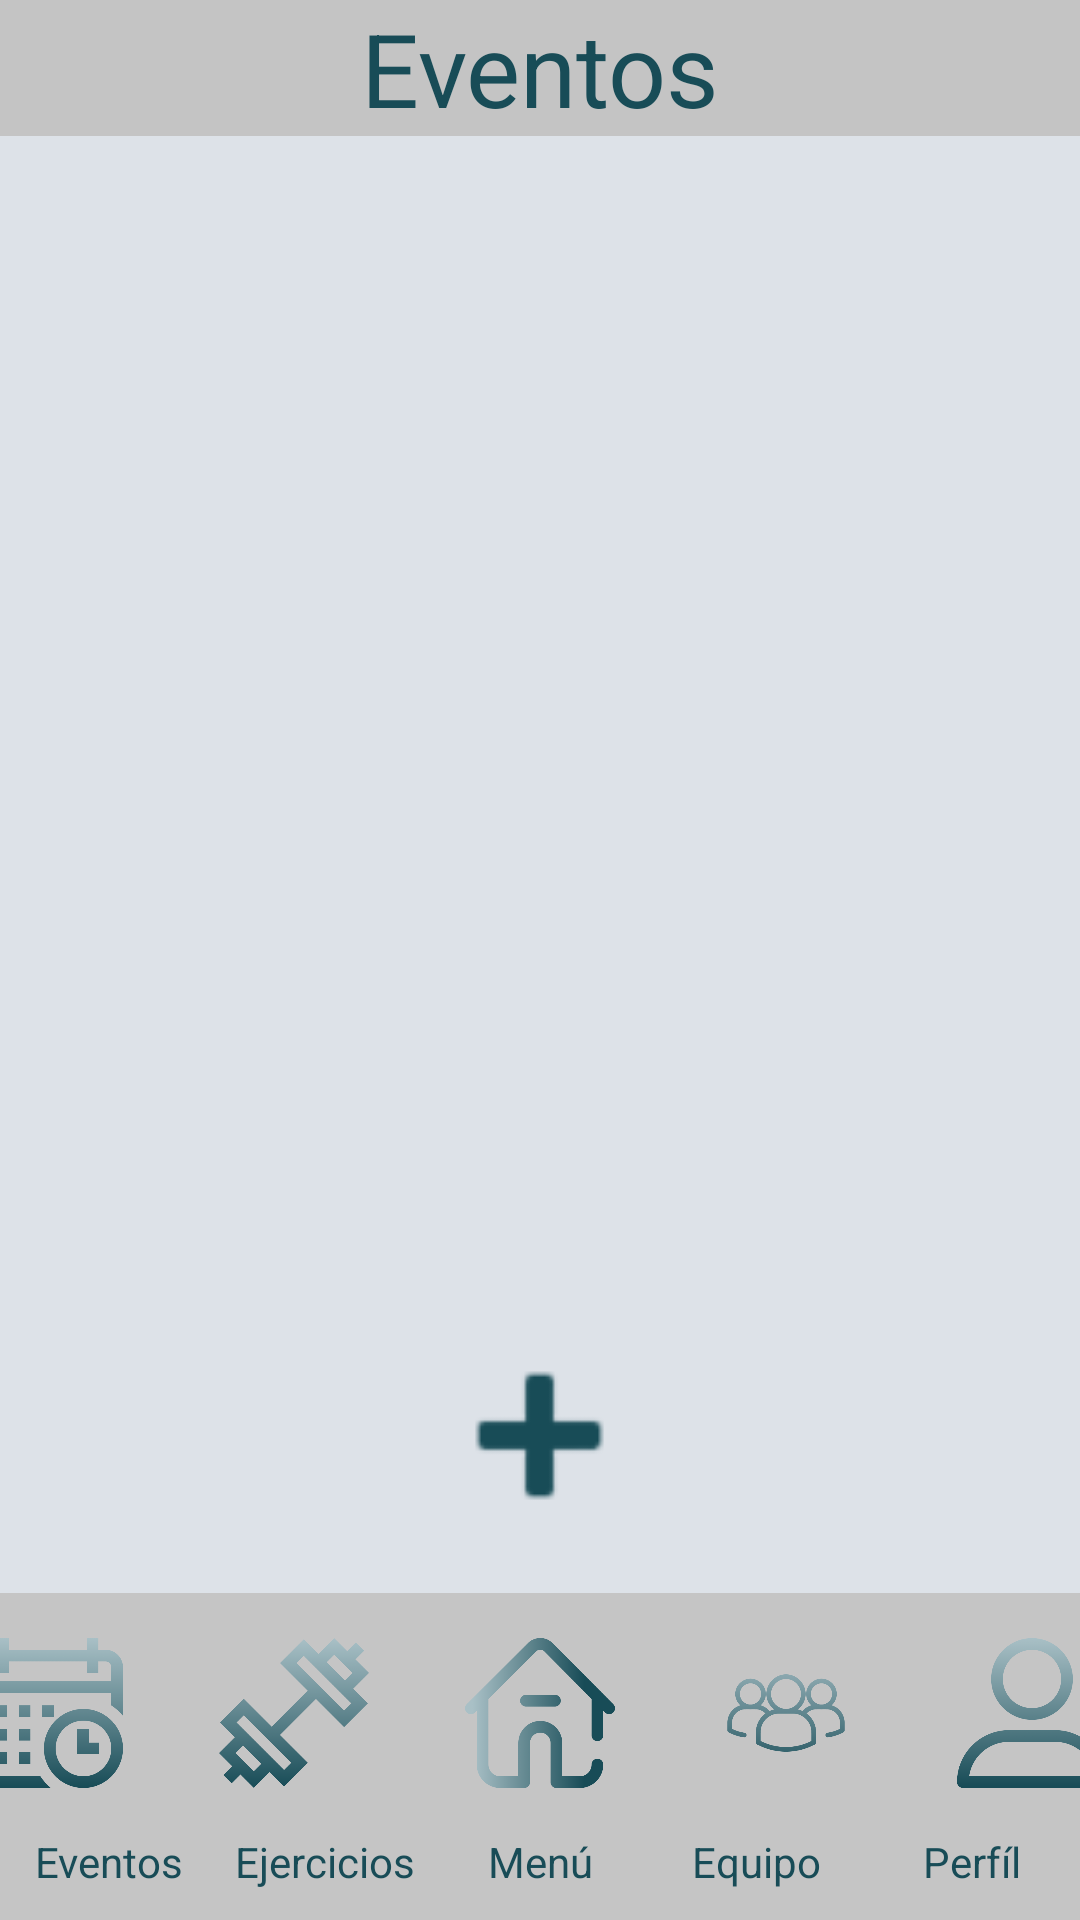

Screen size 1080 × 1920. Icon name, then its box in pixels as [x1, y1, x2, y2]:
add: [476, 1372, 603, 1499]
grupo: [727, 1674, 845, 1752]
pesa: [219, 1639, 369, 1788]
